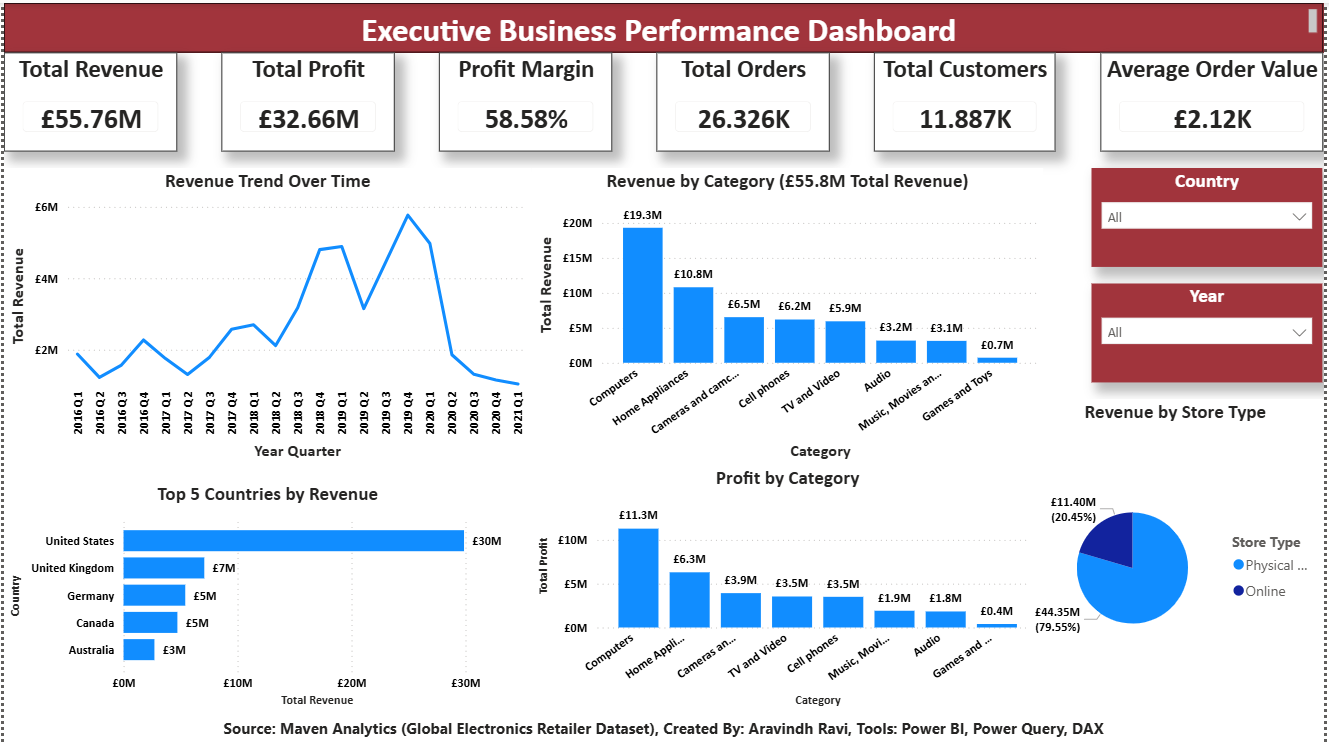

Layout of this report page (visuals, bound fields, positions):
{"tool":"powerbi","page":{"name":"Executive Summary","canvas":[1280,720],"ordinal":0},"visuals":[{"type":"textbox","box":[0,0,1280,48],"z":0},{"type":"group","id":"g1","title":"Group 1","box":[0,48,1280,96],"z":1000},{"type":"cardVisual","title":"Total Revenue","fields":{"Data":["Measure.Total Revenue"]},"box":[0,48,168,96],"z":1000,"group":"g1"},{"type":"cardVisual","title":"Total Profit","fields":{"Data":["Measure.Total Profit"]},"box":[211.2,48,168,96],"z":2000,"group":"g1"},{"type":"lineChart","title":"Revenue Trend Over Time","fields":{"Y":["Measure.Total Revenue"],"Category":["DimDate.Year Quarter"]},"box":[0,160,512,288],"z":2000},{"type":"cardVisual","title":"Profit Margin","fields":{"Data":["Measure.Profit Margin"]},"box":[422.4,48,168,96],"z":3000,"group":"g1"},{"type":"clusteredBarChart","title":"Top 5 Countries by Revenue","fields":{"Category":["DimCustomer.Country"],"Y":["Measure.Total Revenue"]},"box":[0,464,512,224],"z":3000},{"type":"cardVisual","title":"Total Orders","fields":{"Data":["Measure.Total Orders"]},"box":[633.6,48,168,96],"z":4000,"group":"g1"},{"type":"slicer","title":"Country","fields":{"Values":["DimCustomer.Country"]},"box":[1056,160,224,96],"z":4000},{"type":"cardVisual","title":"Total Customers","fields":{"Data":["Measure.Total Customers"]},"box":[844.8,48,176,96],"z":5000,"group":"g1"},{"type":"slicer","title":"Year","fields":{"Values":["DimDate.Year"]},"box":[1056,272,224,96],"z":5000},{"type":"cardVisual","title":"Average Order Value","fields":{"Data":["Measure.Average Order Value"]},"box":[1064,48,216,96],"z":6000,"group":"g1"},{"type":"clusteredColumnChart","title":"Revenue by Category (£55.8M Total Revenue)","fields":{"Category":["DimProduct.Category"],"Y":["Measure.Total Revenue"]},"box":[512,160,496,288],"z":6000},{"type":"clusteredColumnChart","title":"Profit by Category","fields":{"Y":["Measure.Total Profit"],"Category":["DimProduct.Category"]},"box":[512,448,496,240],"z":7000},{"type":"pieChart","title":"Revenue by Store Type","fields":{"Category":["DimStore.Store Type"],"Y":["Measure.Total Revenue"]},"box":[992,384,288,304],"z":8000},{"type":"textbox","box":[0,688,1280,32],"z":9000}]}

Visuals, with their boxes in screenshot pixels (x1, y1, x2, y2), scaled from the page's 1280x720 canvas onto the 1329x745 screenshot:
textbox: l=0, t=0, r=1328, b=50
"Group 1" group: l=0, t=50, r=1328, b=149
"Total Revenue" cardVisual: l=0, t=50, r=174, b=149
"Total Profit" cardVisual: l=219, t=50, r=394, b=149
"Revenue Trend Over Time" lineChart: l=0, t=166, r=532, b=464
"Profit Margin" cardVisual: l=439, t=50, r=613, b=149
"Top 5 Countries by Revenue" clusteredBarChart: l=0, t=480, r=532, b=712
"Total Orders" cardVisual: l=658, t=50, r=832, b=149
"Country" slicer: l=1096, t=166, r=1328, b=265
"Total Customers" cardVisual: l=877, t=50, r=1060, b=149
"Year" slicer: l=1096, t=281, r=1328, b=381
"Average Order Value" cardVisual: l=1105, t=50, r=1328, b=149
"Revenue by Category (£55.8M Total Revenue)" clusteredColumnChart: l=532, t=166, r=1047, b=464
"Profit by Category" clusteredColumnChart: l=532, t=464, r=1047, b=712
"Revenue by Store Type" pieChart: l=1030, t=397, r=1328, b=712
textbox: l=0, t=712, r=1328, b=744
